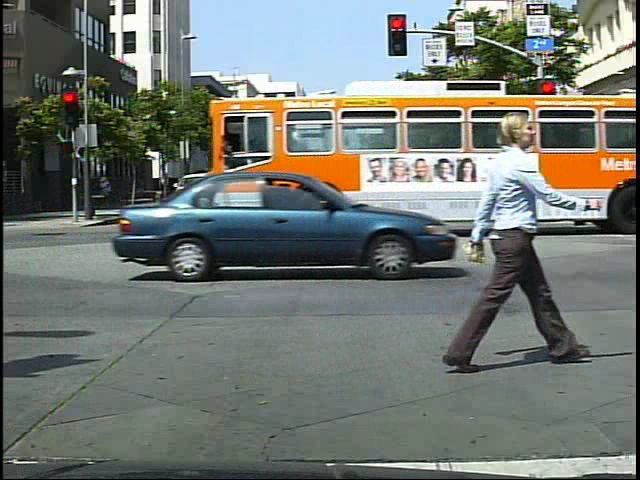person: (440, 96, 593, 399), (316, 164, 347, 228), (225, 166, 254, 232), (307, 166, 336, 230), (549, 160, 573, 211)
